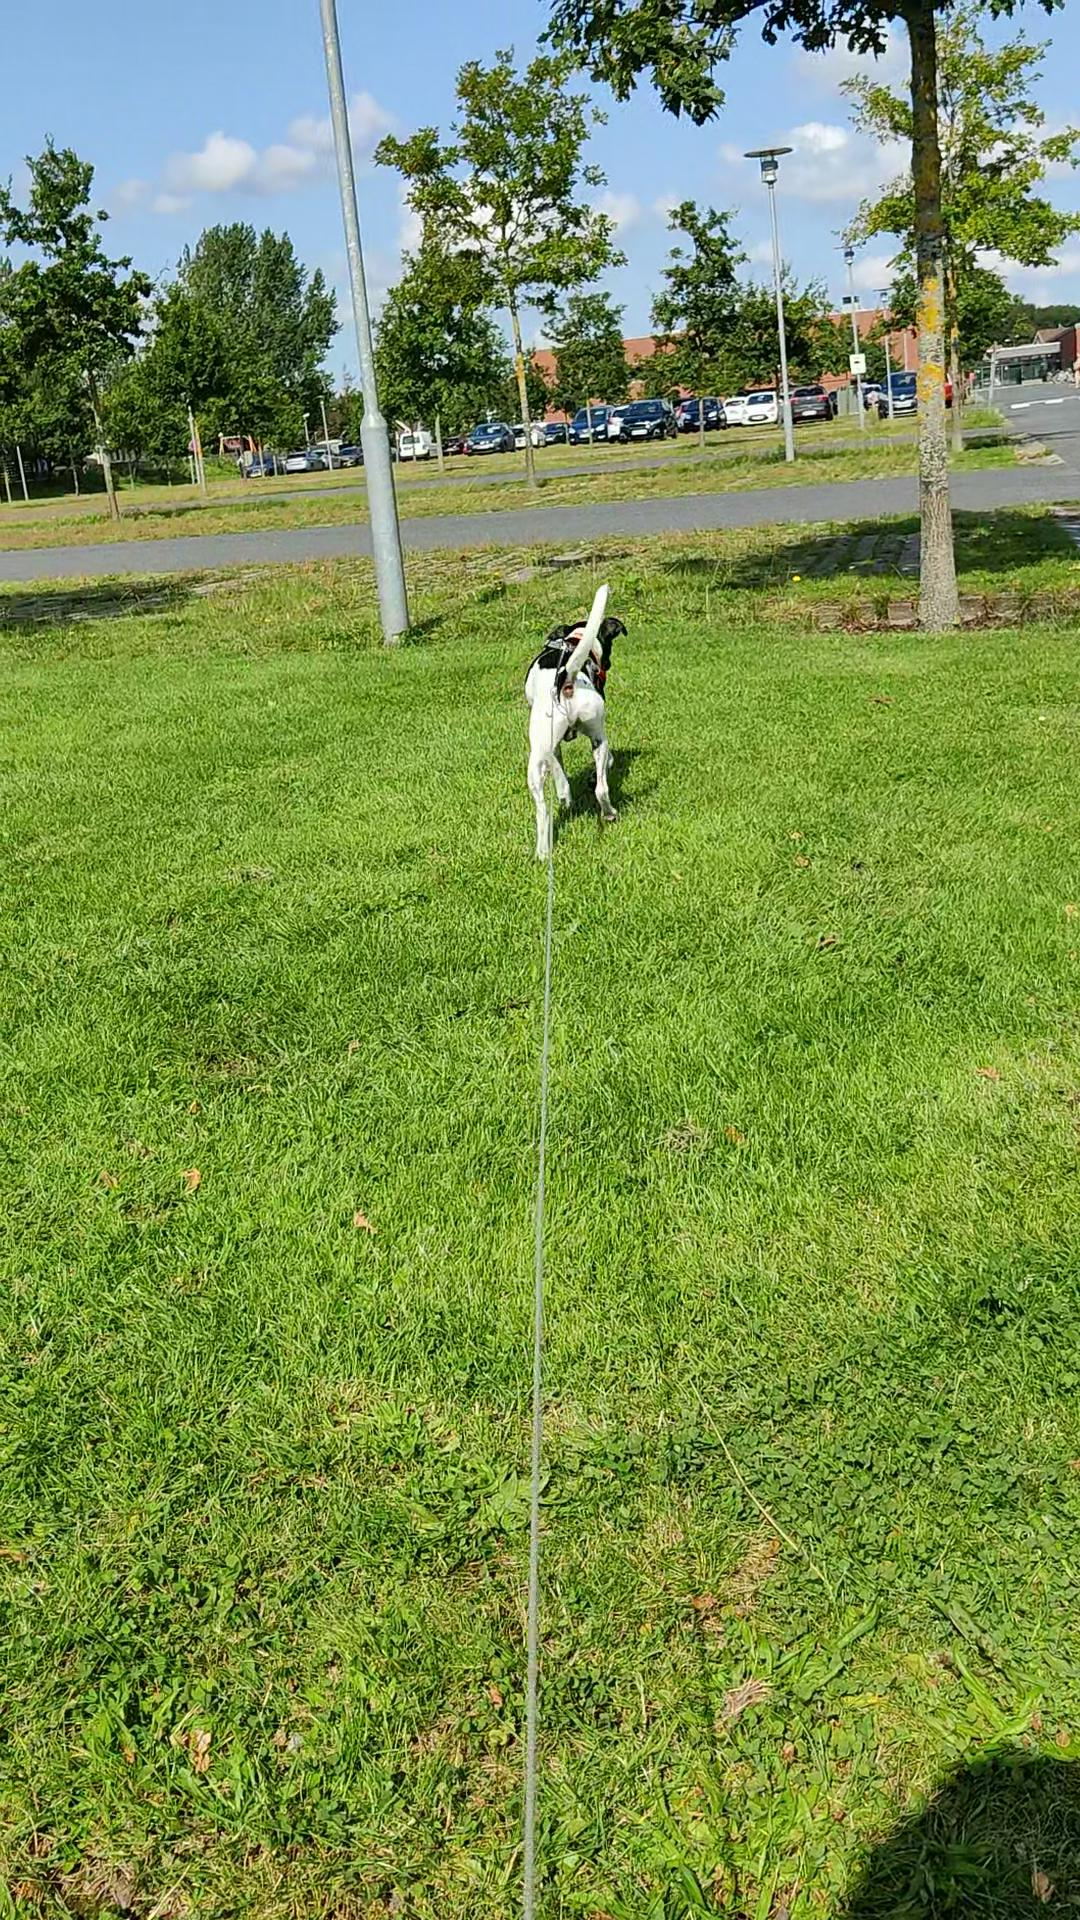Dog: (506, 582, 638, 866)
